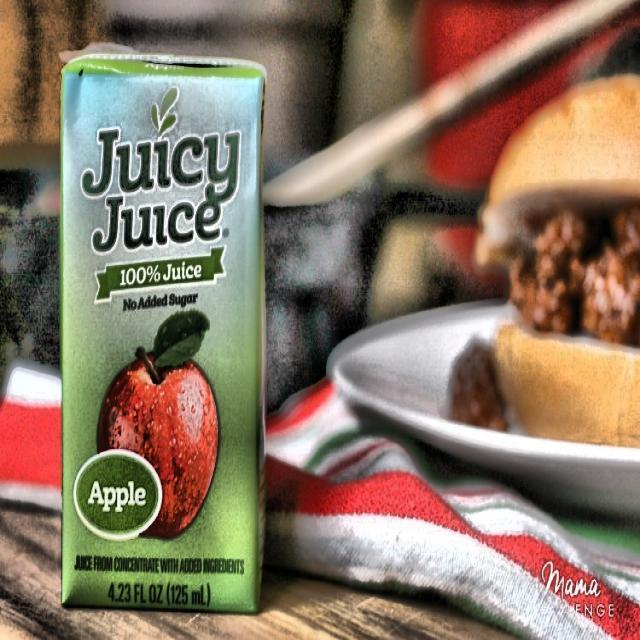cardboard: (58, 49, 267, 614)
